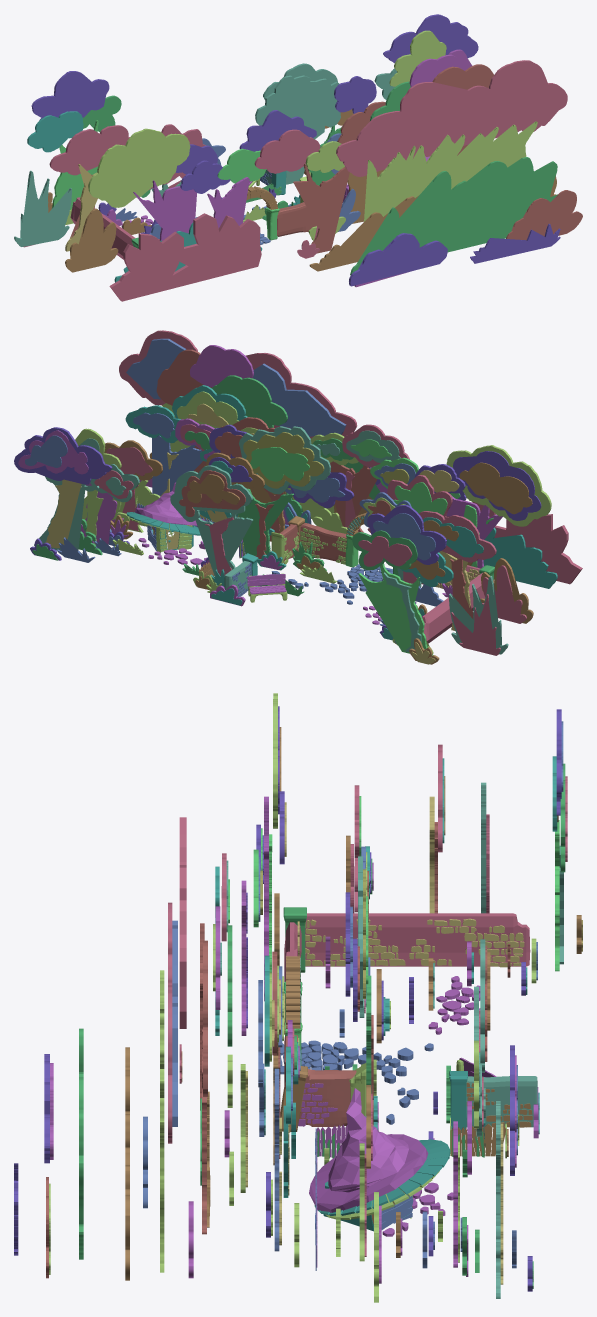
File: section_one.fbx
3 views of the same model, one above another, from view 1: azimuth 30°, elevation 25°; view 2: azimuth 150°, elevation 25°; view 3: azimuth 270°, elevation 25° (orthographic). The views are drawn at different scales.
Parts seen in each view (by area): view 1: background.001, background.003, background.005, background, tree.084, tree.096, bush.074, bush.079, tree.105, tree.090, bush.073, tree.094 (+29 smaller); view 2: background.006, background.001, tree.106, background.005, background.004, tree.017, tree.070, tree.069, tree.085, tree.042, tree.023, tree.084 (+63 smaller); view 3: set.022, Cylinder.001, set.025, set.028, set.023, set.013, background.005, Cylinder.003, background, set.031, background.006, background.001 (+13 smaller).
Part boxes in pixels (x1,y1,x2,y2): background.001: [336, 60, 567, 176]; background.003: [350, 157, 557, 275]; background.005: [109, 213, 261, 301]; background: [364, 121, 537, 221]; tree.084: [88, 128, 190, 207]; tree.096: [255, 75, 340, 138]; bush.074: [349, 233, 447, 286]; bush.079: [14, 170, 71, 246]; tree.105: [293, 163, 349, 253]; tree.090: [31, 71, 109, 120]; bush.073: [506, 190, 582, 240]; tree.094: [49, 125, 129, 175]; background.006: [126, 338, 346, 436]; background.001: [119, 330, 357, 438]; tree.106: [358, 563, 433, 655]; background.005: [465, 500, 582, 584]; background.004: [483, 527, 557, 588]; tree.017: [459, 462, 532, 514]; tree.070: [211, 375, 287, 427]; tree.069: [190, 345, 253, 387]; tree.085: [14, 427, 112, 484]; tree.042: [243, 432, 324, 488]; tree.023: [453, 451, 541, 520]; tree.084: [446, 445, 551, 526]; set.022: [284, 913, 530, 981]; Cylinder.001: [309, 1088, 428, 1212]; set.025: [297, 918, 524, 967]; set.028: [280, 1040, 433, 1124]; set.023: [284, 1035, 356, 1126]; set.013: [466, 1076, 537, 1127]; background.005: [179, 817, 186, 1028]; Cylinder.003: [314, 1139, 450, 1215]; background: [160, 970, 164, 1272]; set.031: [428, 976, 480, 1034]; background.006: [172, 920, 177, 1126]; background.001: [168, 902, 172, 1143].
Bounding box in the file's own units: 3041 × 1016 × 1775.
